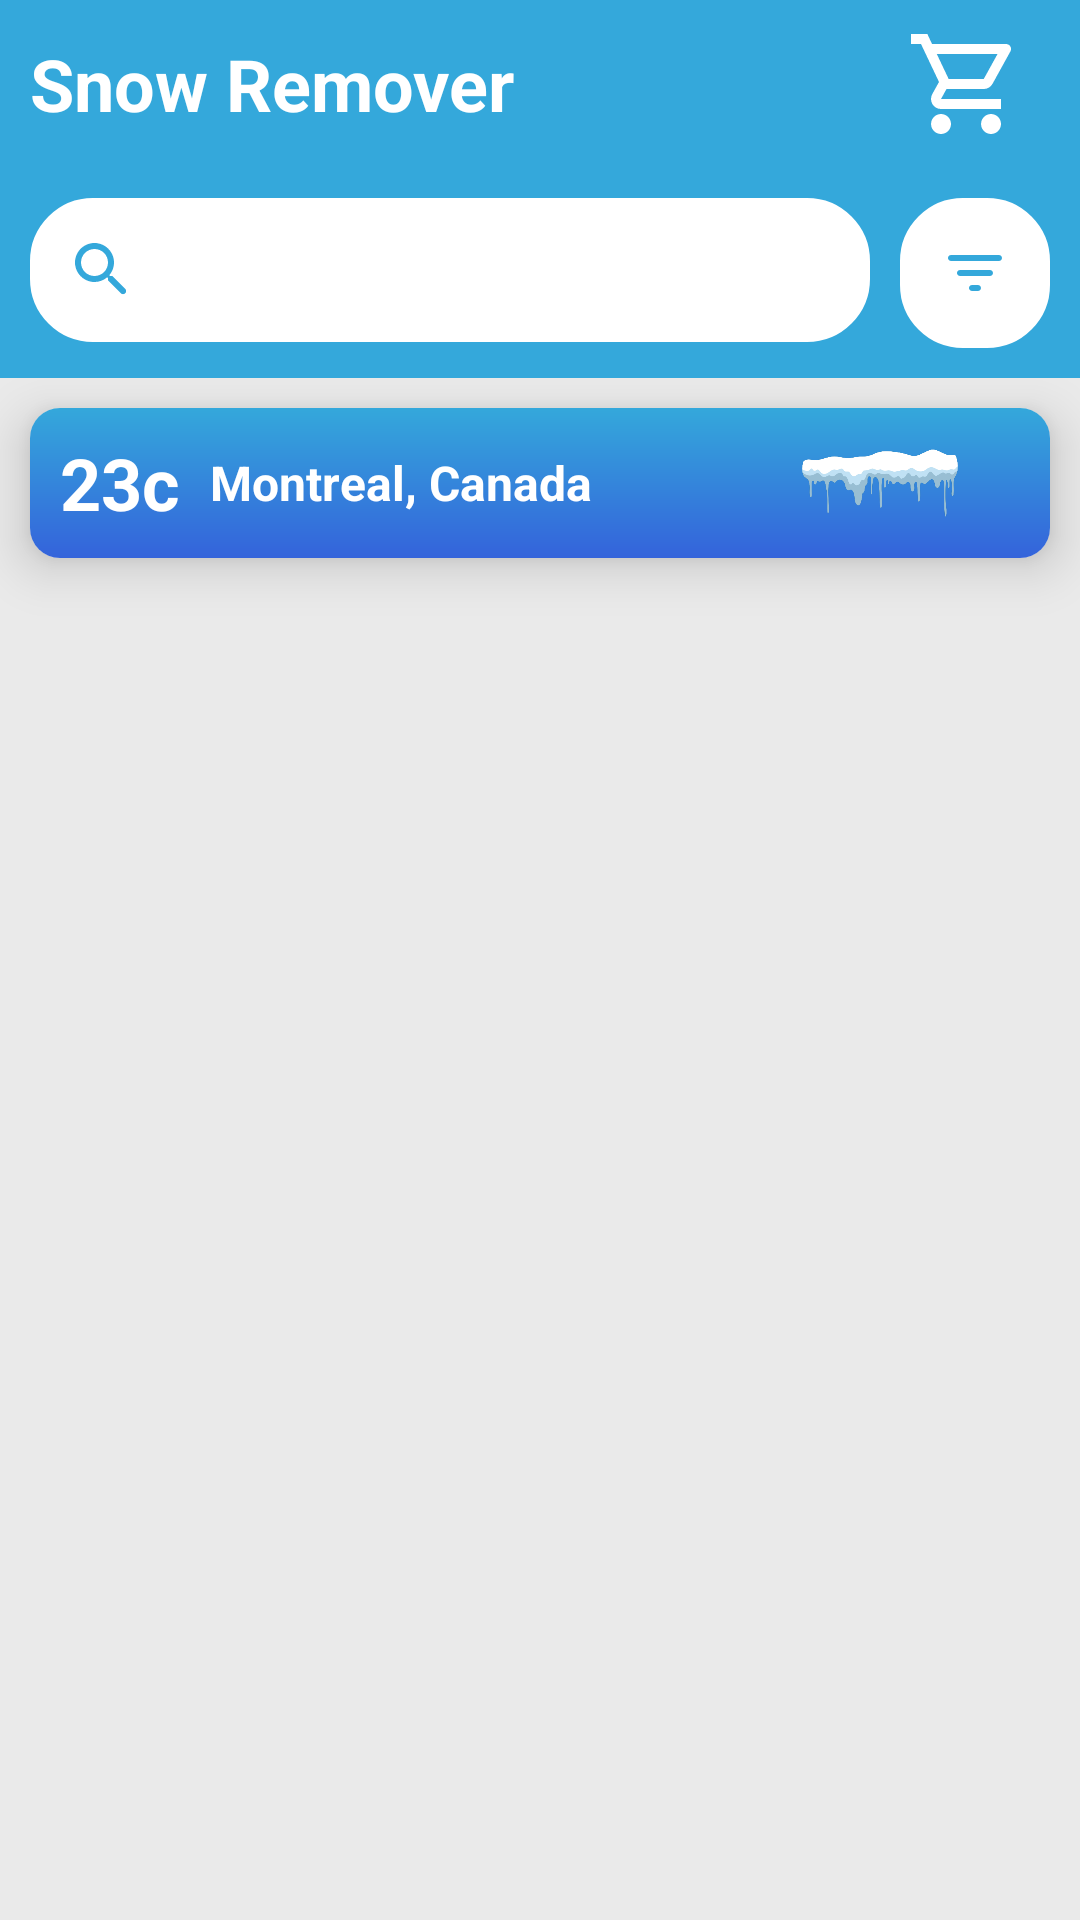

Icon bounding boxes for this 1080x1920 phone screenshot, format (left=x1, top=y1, right=x2, bottom=y2):
filter list: (left=900, top=198, right=1050, bottom=348)
shopping cart: (left=911, top=34, right=1011, bottom=134)
snowborder: (left=710, top=408, right=1050, bottom=558)
